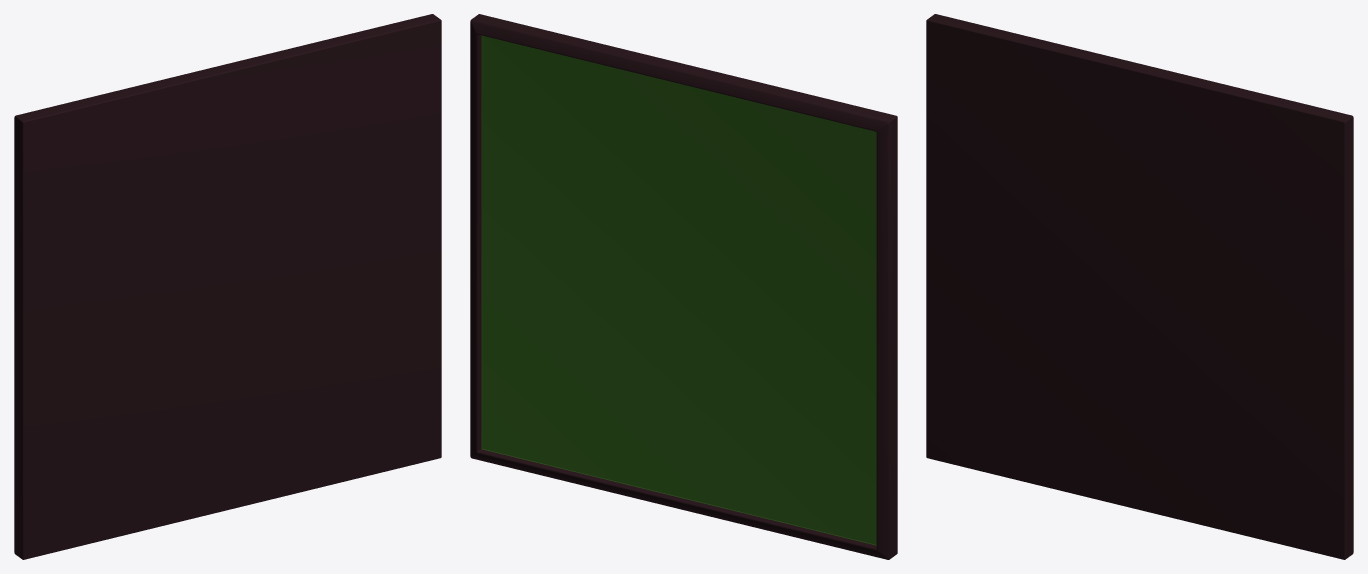
The model's file is Table.fbx.
3 renders of one model, left to right at view 1: azimuth 30°, elevation 25°; view 2: azimuth 150°, elevation 25°; view 3: azimuth 330°, elevation 25°, orthographic.
Visible parts, largest first — view 1: Cube; view 2: Cube; view 3: Cube.
Part boxes in pixels (left/top/right/bottom): Cube: left=14, top=14, right=441, bottom=559; Cube: left=470, top=14, right=897, bottom=559; Cube: left=926, top=14, right=1353, bottom=559.
Bounding box in the file's own units: 850 × 850 × 40.
